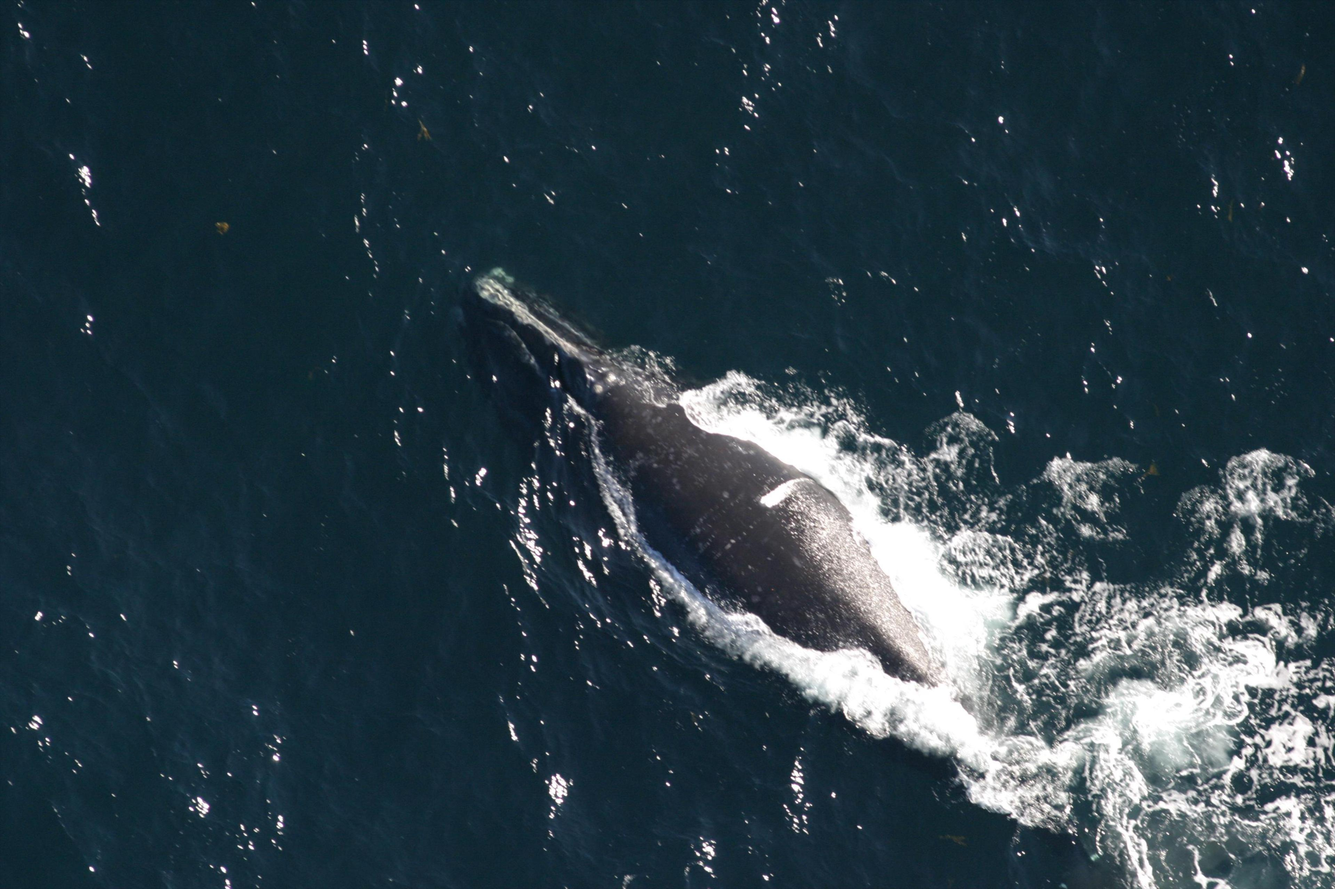whale: (449, 258, 1262, 889)
